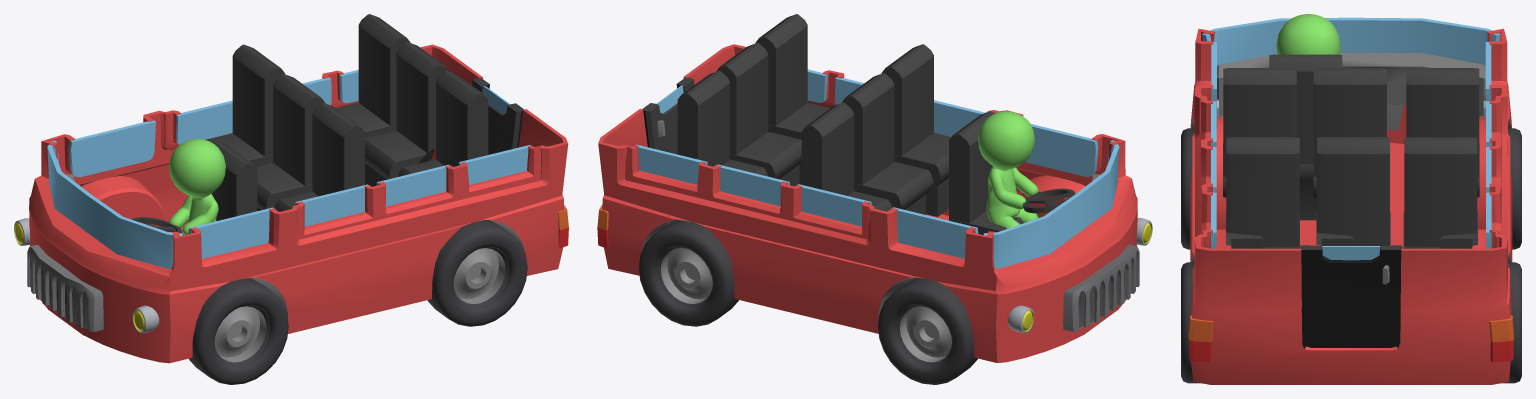
Rendered from Bus.fbx.
3 renders of one model, left to right at view 1: azimuth 30°, elevation 25°; view 2: azimuth 150°, elevation 25°; view 3: azimuth 270°, elevation 25°, orthographic. The views are drawn at different scales.
Parts seen in each view (by area): view 1: Bus, front_tyre, rear_tyre; view 2: Bus, front_tyre, rear_tyre; view 3: Bus, front_tyre, rear_tyre.
Part boxes in pixels (x1,y1,x2,y2): Bus: [14, 14, 568, 363]; front_tyre: [189, 278, 288, 384]; rear_tyre: [427, 220, 527, 326]; Bus: [597, 14, 1152, 363]; front_tyre: [878, 278, 977, 384]; rear_tyre: [638, 219, 738, 326]; Bus: [1188, 14, 1514, 384]; front_tyre: [1181, 128, 1521, 249]; rear_tyre: [1181, 262, 1521, 383].
Bounding box in the file's own units: 1210 × 549 × 686.
